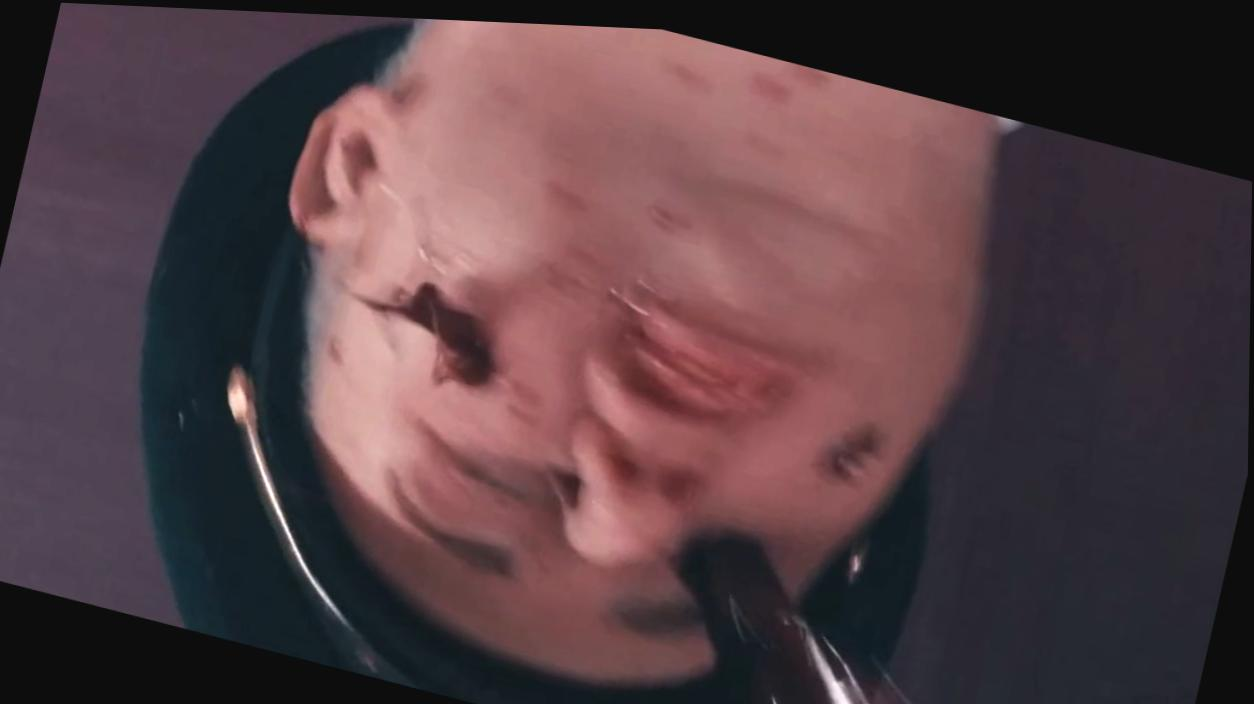Fire: (681, 526, 920, 704), (360, 279, 498, 384), (824, 420, 885, 473)
